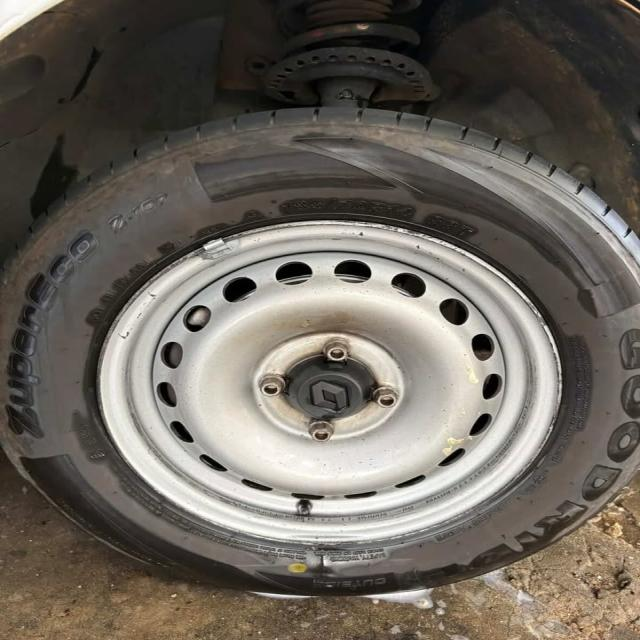parafuso: (97, 217, 564, 542), (367, 386, 403, 411), (306, 419, 338, 444), (260, 371, 286, 398), (324, 338, 352, 362)
roda: (0, 105, 640, 599)
